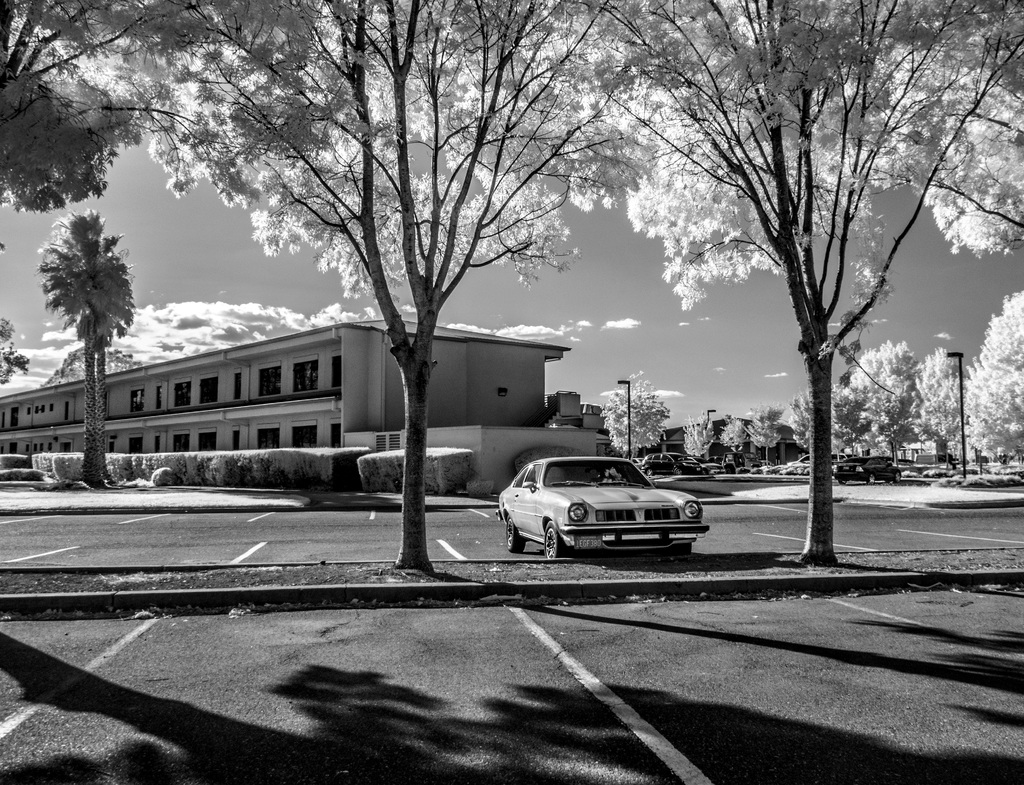Car: (497, 451, 711, 552), (636, 451, 903, 500)
